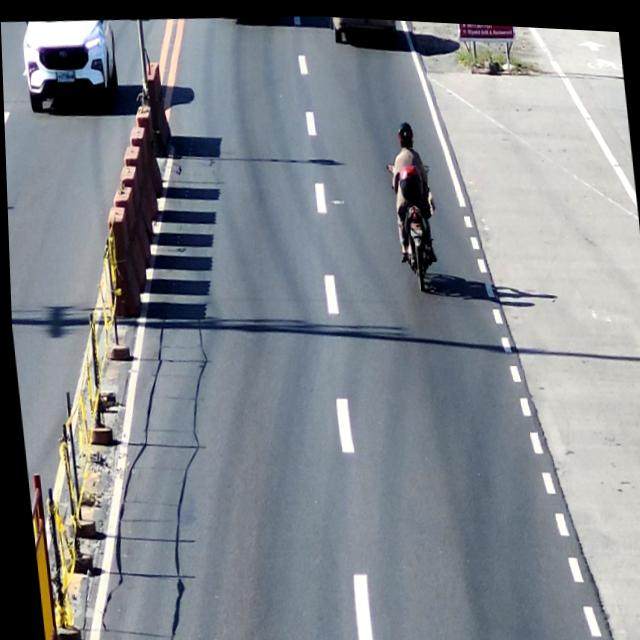Car: (17, 15, 122, 120), (326, 13, 401, 52)
License-Plate: (51, 66, 79, 87)
Motorcycle: (381, 138, 447, 299)
